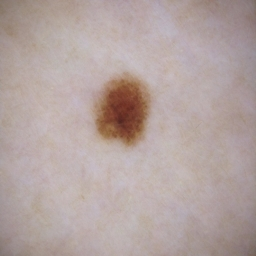melanoma: (99, 75, 147, 144)
